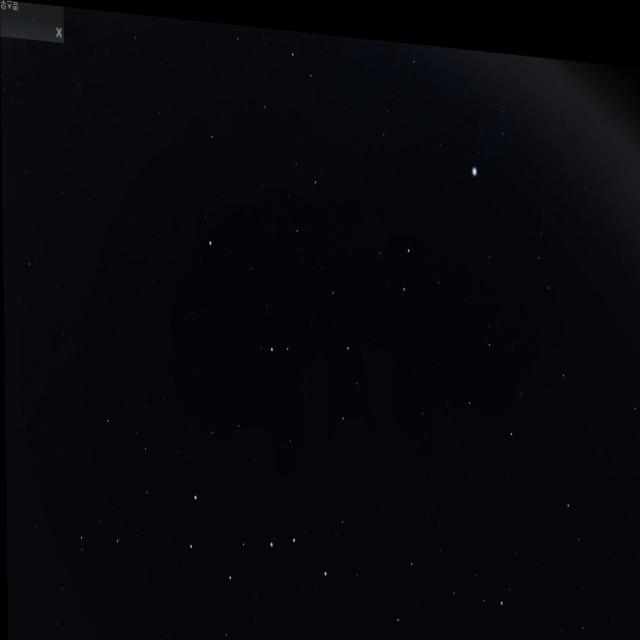lyra: (456, 66, 519, 189)
ursa_major: (184, 474, 332, 613)
